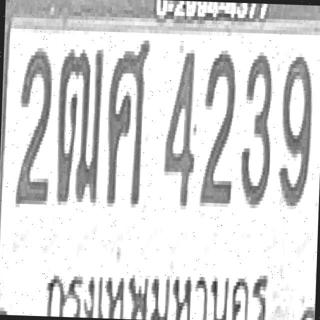A18: (55, 45, 104, 202)
A38: (104, 37, 149, 206)
N02: (199, 48, 237, 206), (15, 45, 52, 202)
N03: (238, 50, 274, 206)
N04: (161, 49, 198, 206)
N09: (277, 53, 314, 206)
